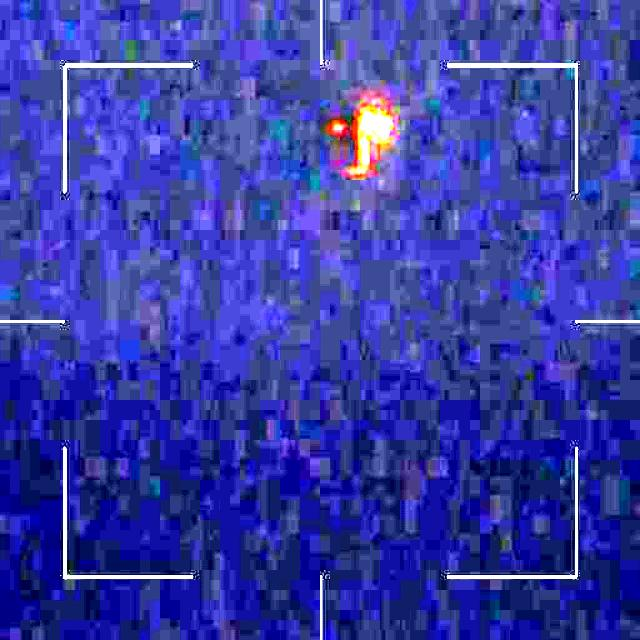bird: (305, 105, 390, 176)
